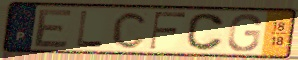C: (185, 12, 226, 52), (110, 10, 151, 50)
E: (31, 8, 75, 48)
F: (147, 11, 188, 51)
G: (226, 13, 264, 53)
L: (75, 10, 105, 48)
